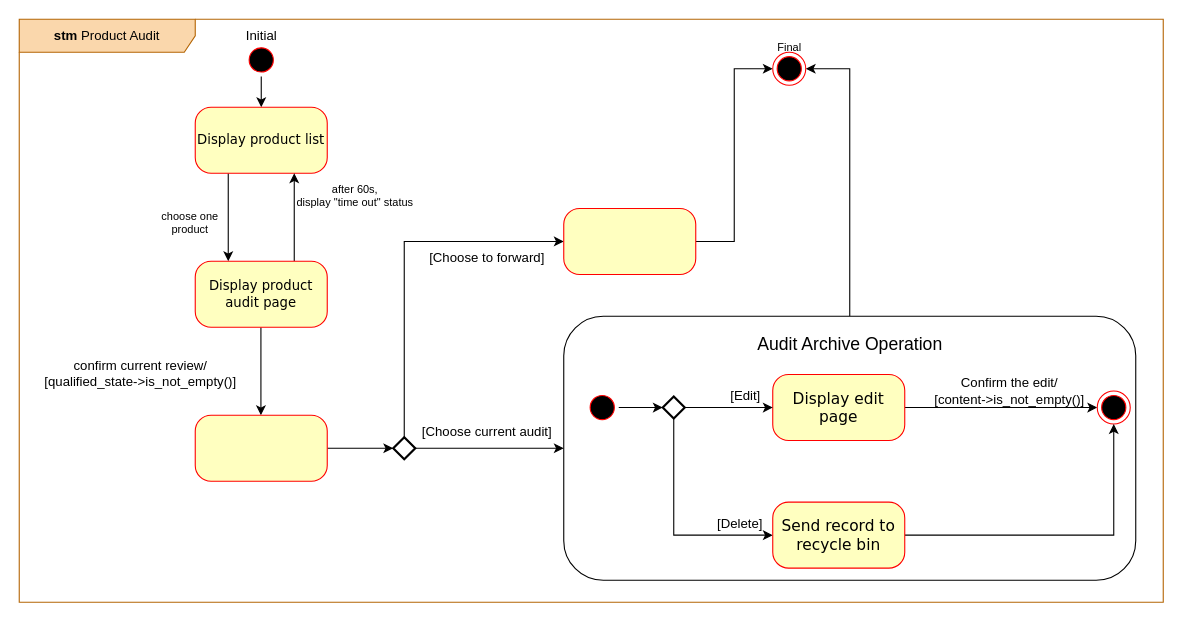
This 1183x622 diagram has some shape labels left out. Here are the shapes that lost their labels. From the top down, the centre of each, then its label:
At (x=629, y=240): "Forward audit result".
At (x=260, y=447): "Create audit archive".
